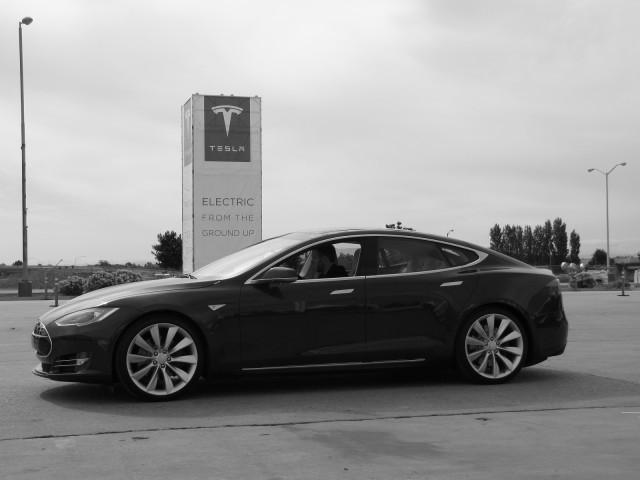car: (21, 206, 605, 422)
